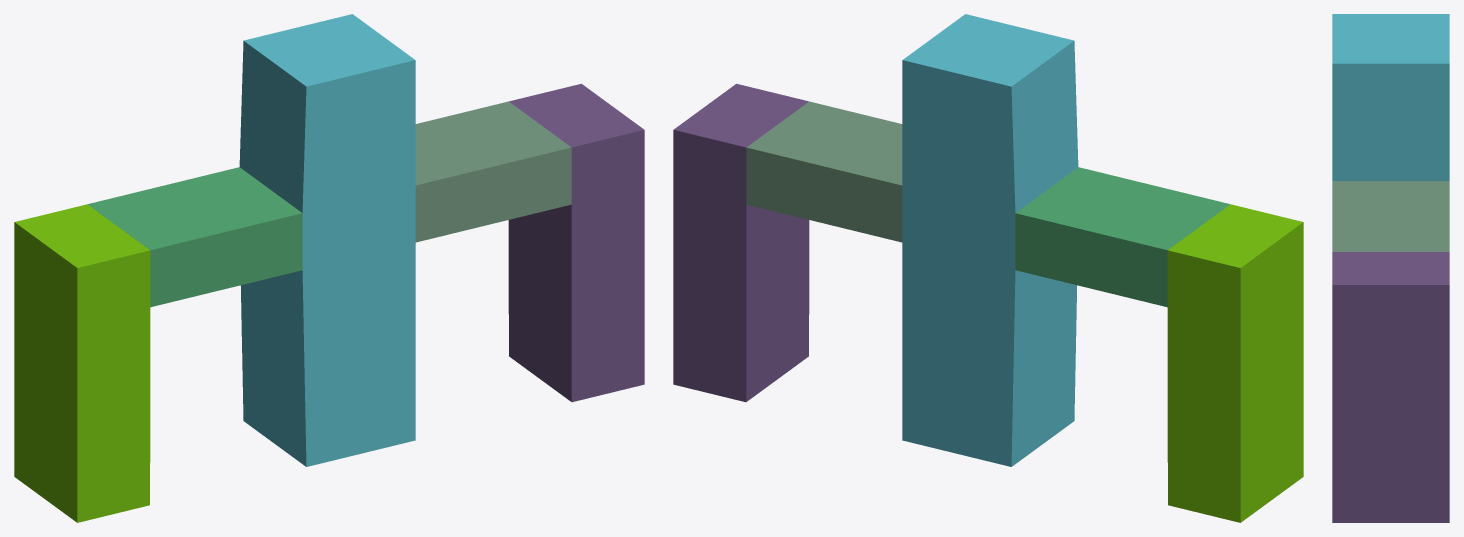
The model's file is board_3_3_canonical.obj.
3 renders of one model, left to right at view 1: azimuth 30°, elevation 25°; view 2: azimuth 150°, elevation 25°; view 3: azimuth 270°, elevation 25°, orthographic. The views are drawn at different scales.
Parts seen in each view (by area): view 1: geometry_2, geometry_4, geometry_1, geometry_3, geometry_0; view 2: geometry_2, geometry_4, geometry_1, geometry_3, geometry_0; view 3: geometry_1, geometry_2, geometry_0.
Boxes of the visible parts, x1,y1,x2,y2 form: geometry_2: (239, 14, 415, 466); geometry_4: (14, 204, 150, 522); geometry_1: (508, 83, 644, 402); geometry_3: (87, 167, 302, 307); geometry_0: (415, 101, 571, 242); geometry_2: (902, 14, 1078, 466); geometry_4: (1167, 204, 1303, 522); geometry_1: (673, 83, 809, 402); geometry_3: (1015, 167, 1230, 307); geometry_0: (746, 101, 902, 242); geometry_1: (1332, 252, 1449, 522); geometry_2: (1332, 14, 1449, 180); geometry_0: (1332, 181, 1449, 251).
Size of the model in its own units: 0.156 by 0.1 by 0.03.
